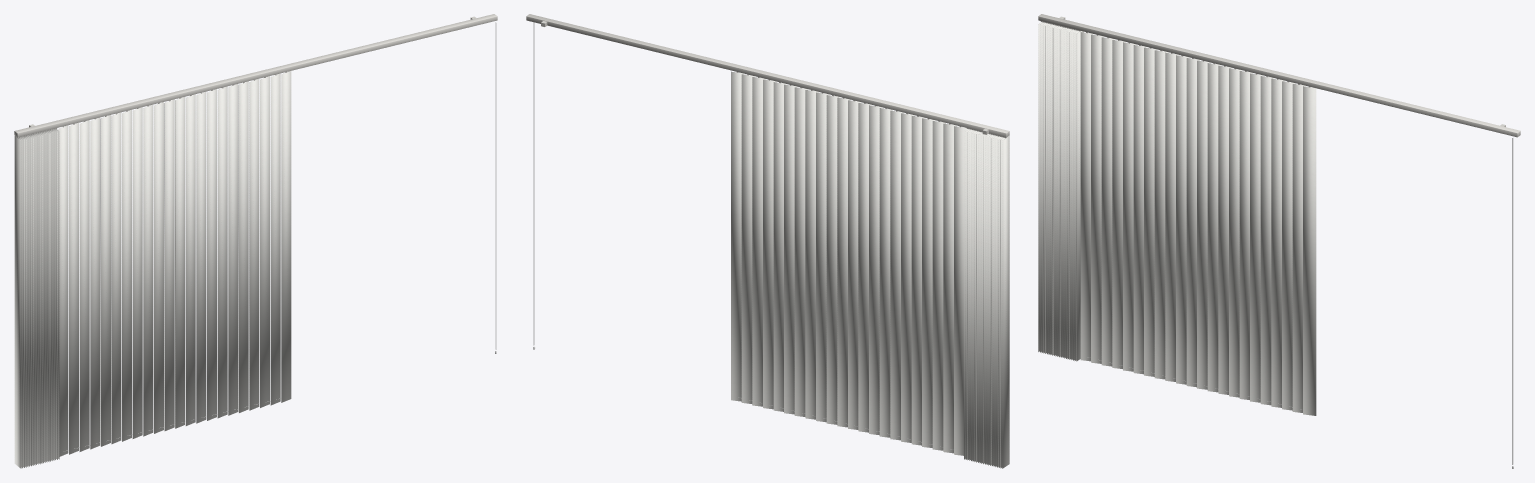
File: cortina_vertical_360_c50.glb
3 renders of one model, left to right at view 1: azimuth 30°, elevation 25°; view 2: azimuth 150°, elevation 25°; view 3: azimuth 330°, elevation 25°, orthographic.
Visible parts, largest first — view 1: cortina_vertical_360_c50; view 2: cortina_vertical_360_c50; view 3: cortina_vertical_360_c50.
Boxes of the visible parts, <box> form: cortina_vertical_360_c50: <box>14,14,497,468</box>; cortina_vertical_360_c50: <box>526,14,1009,468</box>; cortina_vertical_360_c50: <box>1038,14,1520,468</box>.
Bounding box in the file's own units: 3.59 × 2.4 × 0.0995.
3 materials, 1 textured.
